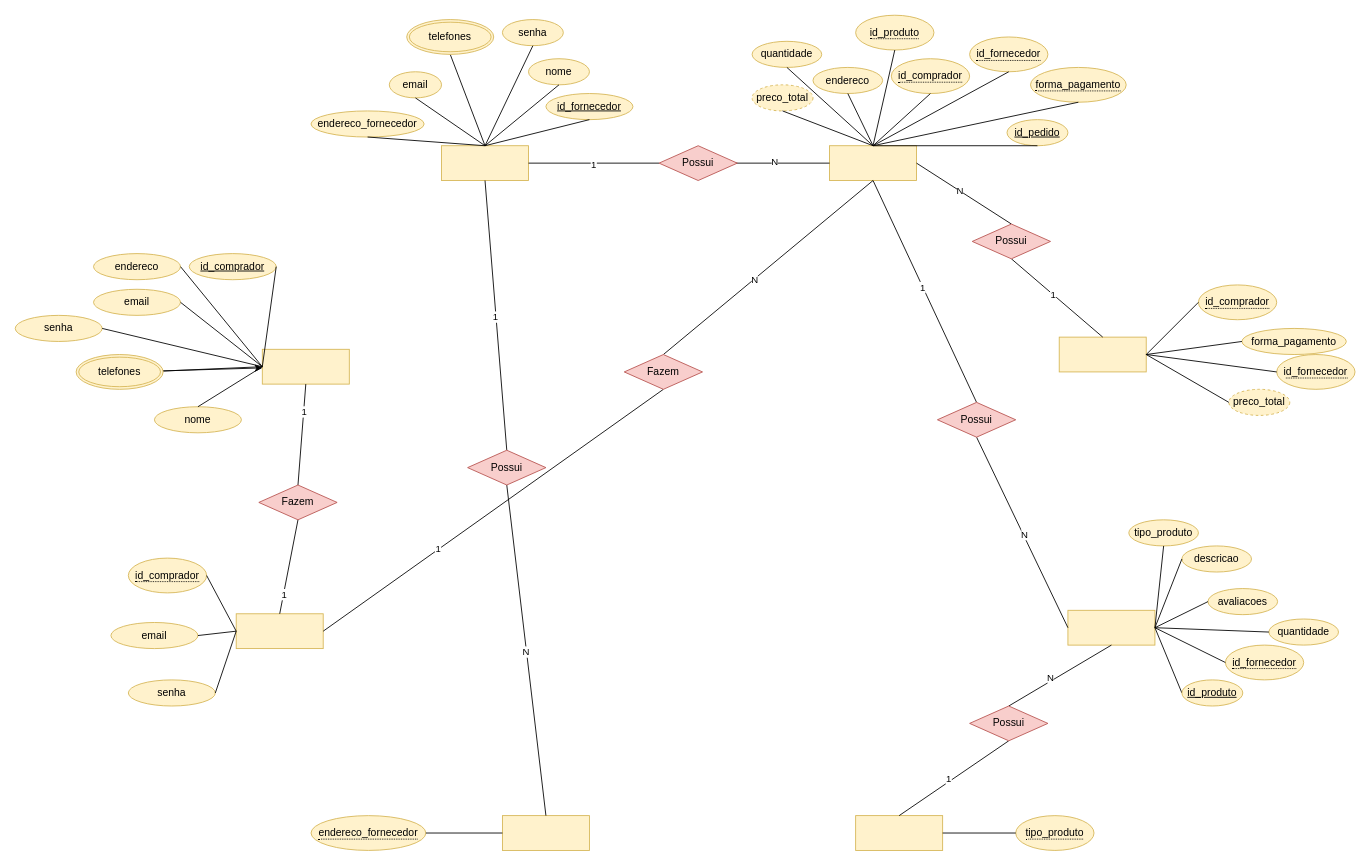
This 1370x866 diagram has some shape labels left out. The centre of each missing label's shape, as x and y in pixels:
Cadastro: point (305, 366)
Categoria: point (899, 832)
Compradores: point (279, 631)
Pagamento: point (1102, 354)
Pedidos: point (873, 163)
Produtos: point (1111, 627)
Redes_Venda: point (545, 832)
Vendedores: point (485, 163)
